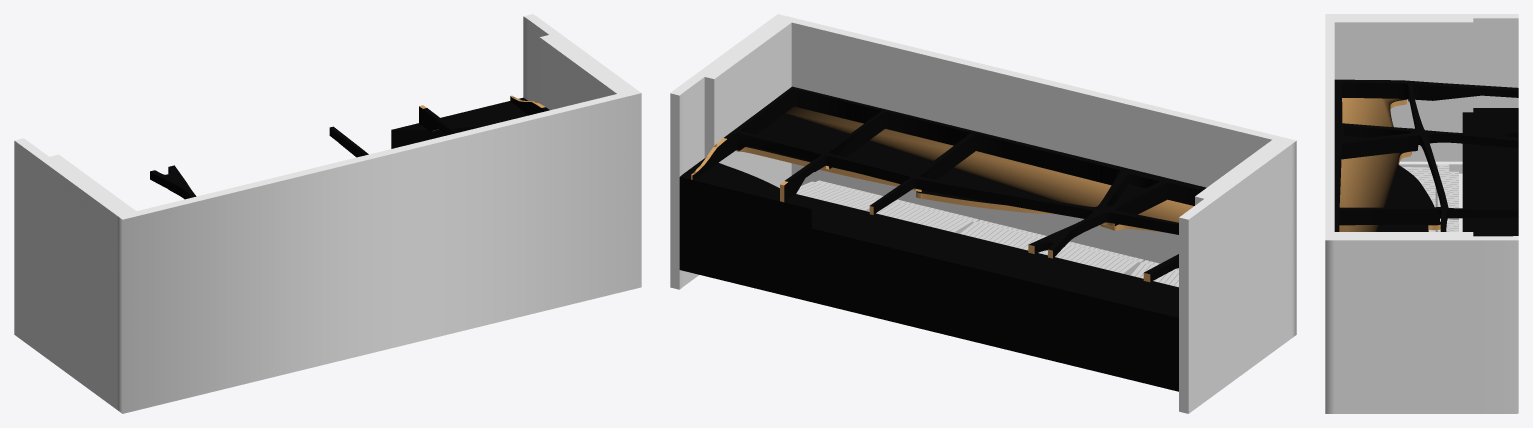
Rendered from CenarioInterior.fbx.
3 views of the same model, side by side, from view 1: azimuth 30°, elevation 25°; view 2: azimuth 150°, elevation 25°; view 3: azimuth 270°, elevation 25° (orthographic). The views are drawn at different scales.
Visible parts, largest first — view 1: _Piano, _Estrutura, _Estrutura2; view 2: _Piano, _Chao1, _Estrutura2, _Estrutura; view 3: _Piano, _Estrutura2, _Estrutura, _Chao1, _Chao.
Boxes of the visible parts, <box> form: _Piano: <box>14,14,641,413</box>; _Estrutura: <box>391,97,528,148</box>; _Estrutura2: <box>150,95,549,199</box>; _Piano: <box>670,14,1296,413</box>; _Chao1: <box>679,194,1178,391</box>; _Estrutura2: <box>691,86,1206,282</box>; _Estrutura: <box>679,106,1193,234</box>; _Piano: <box>1325,14,1518,413</box>; _Estrutura2: <box>1334,79,1518,231</box>; _Estrutura: <box>1339,98,1440,231</box>; _Chao1: <box>1462,108,1518,236</box>; _Chao: <box>1399,161,1462,231</box>.
Size of the model in its own units: 55.04 by 19.69 by 19.89.
